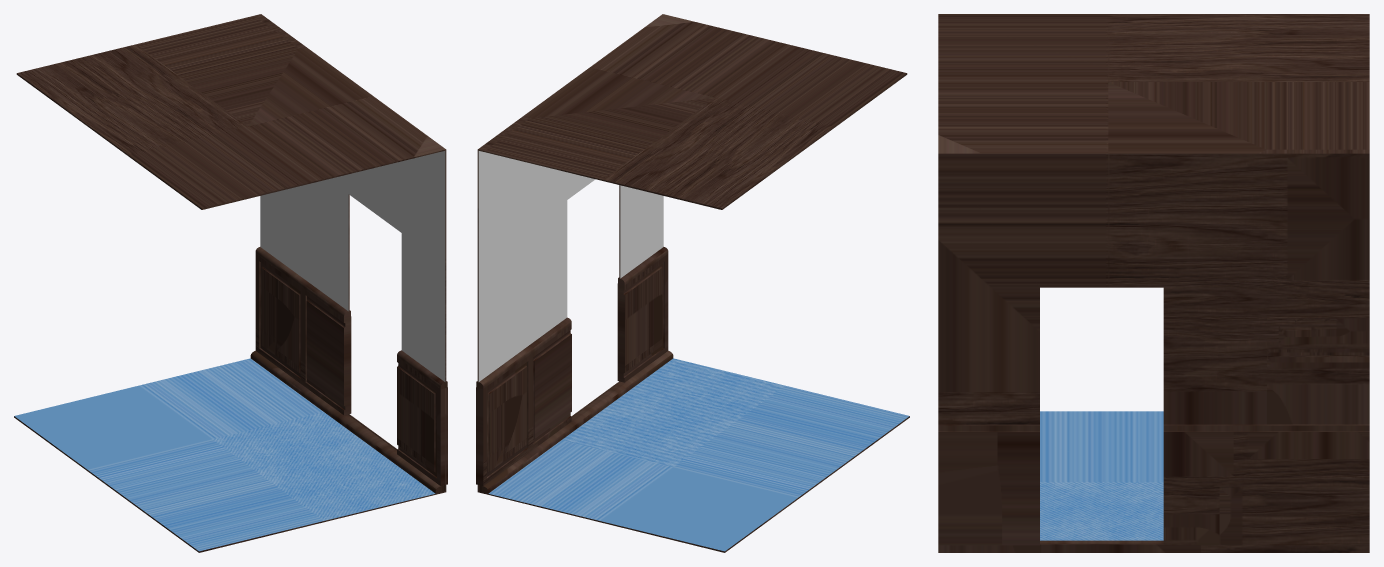
File: larger wall chunk.fbx
The picture shows the model from 3 angles, left to right: view 1: azimuth 30°, elevation 25°; view 2: azimuth 150°, elevation 25°; view 3: azimuth 270°, elevation 25°; orthographic projection. The views are drawn at different scales.
Parts seen in each view (by area): view 1: Cube.019; view 2: Cube.019; view 3: Cube.019.
Part boxes in pixels (bbox=[...]): Cube.019: bbox=[14, 14, 447, 552]; Cube.019: bbox=[476, 14, 909, 552]; Cube.019: bbox=[938, 14, 1369, 552].
Size of the model in its own units: 342 by 451 by 440.
4 materials, 2 textured.
